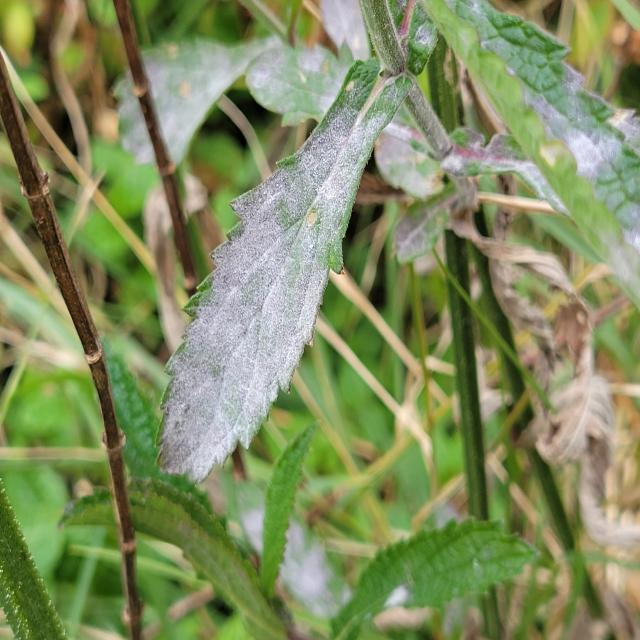powdery_mildew: (158, 59, 410, 481)
